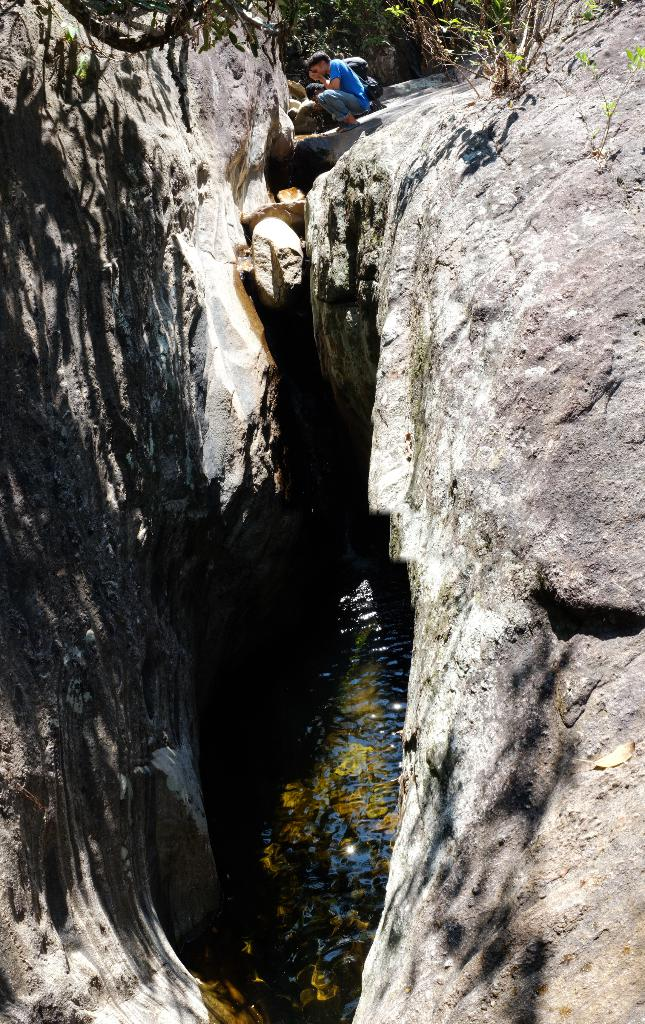Person: (303, 50, 370, 132)
